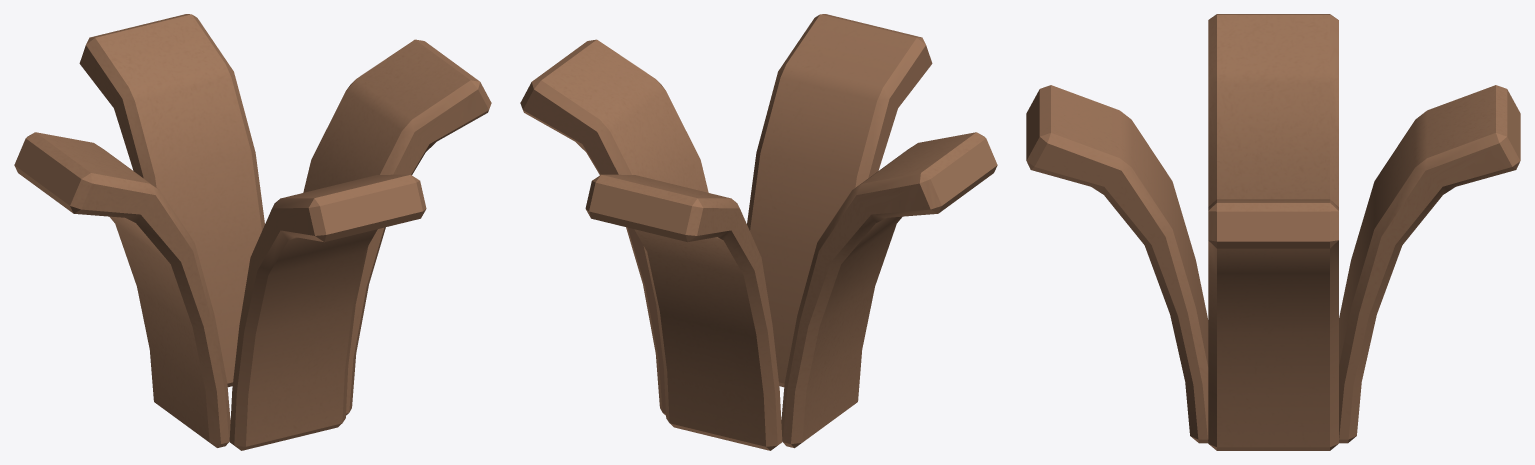
File: wind spout small level 2.fbx
3 renders of one model, left to right at view 1: azimuth 30°, elevation 25°; view 2: azimuth 150°, elevation 25°; view 3: azimuth 270°, elevation 25°, orthographic.
Parts seen in each view (by area): view 1: WindSpout_02, WindSpout_04, WindSpout_03, WindSpout_01; view 2: WindSpout_04, WindSpout_02, WindSpout_03, WindSpout_01; view 3: WindSpout_01, WindSpout_03, WindSpout_02, WindSpout_04.
Boxes of the visible parts, x1,y1,x2,y2 form: WindSpout_02: (229,174,426,450); WindSpout_04: (79,14,264,387); WindSpout_03: (14,132,230,447); WindSpout_01: (303,39,491,415); WindSpout_04: (585,174,782,450); WindSpout_02: (747,14,932,387); WindSpout_03: (781,132,997,448); WindSpout_01: (520,39,708,415); WindSpout_01: (1208,199,1338,450); WindSpout_03: (1208,14,1338,206); WindSpout_02: (1026,85,1208,443); WindSpout_04: (1339,85,1520,443).
Bounding box in the file's own units: 0.4771 × 0.331 × 0.4771.
Materials: 1 (1 with a texture image).
